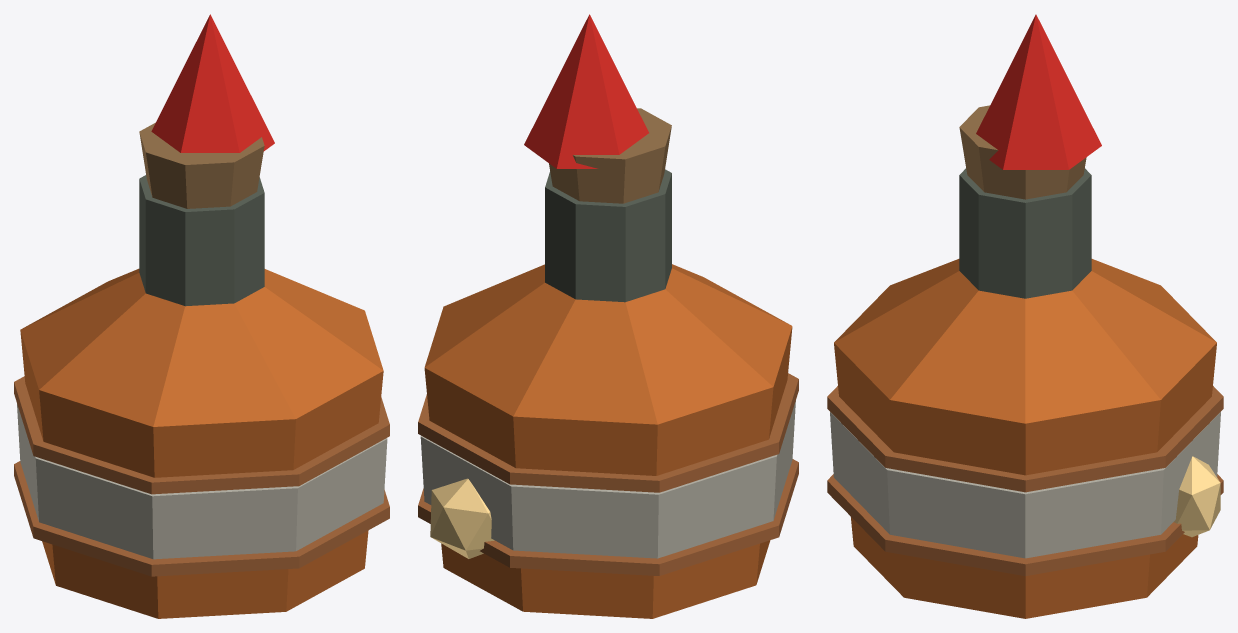
Rendered from fx_chem_flask.fbx.
3 views of the same model, side by side, from view 1: azimuth 30°, elevation 25°; view 2: azimuth 150°, elevation 25°; view 3: azimuth 270°, elevation 25° (orthographic).
Parts seen in each view (by area): view 1: fx_chem_flask; view 2: fx_chem_flask; view 3: fx_chem_flask.
Part boxes in pixels (x1,y1,x2,y2): fx_chem_flask: (14, 14, 389, 618); fx_chem_flask: (418, 14, 798, 618); fx_chem_flask: (827, 14, 1223, 618).
Bounding box in the file's own units: 0.3 × 0.45 × 0.3.
